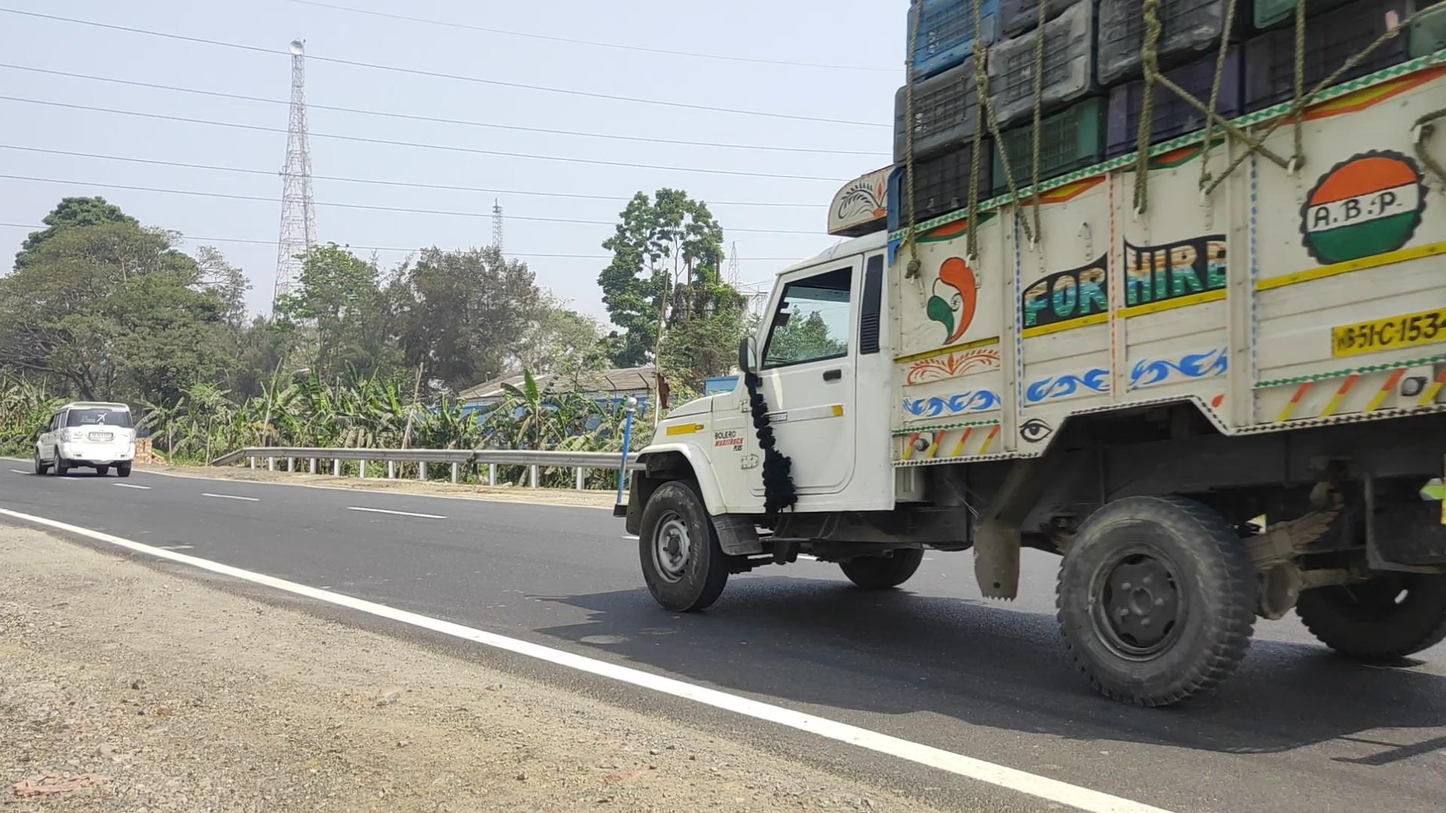car: (35, 400, 136, 477)
van: (612, 2, 1446, 711)
